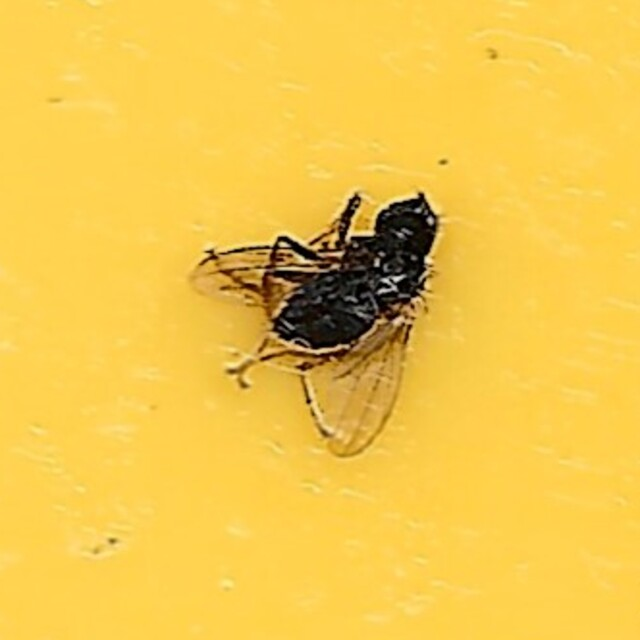Brachycera: (193, 179, 447, 461)
